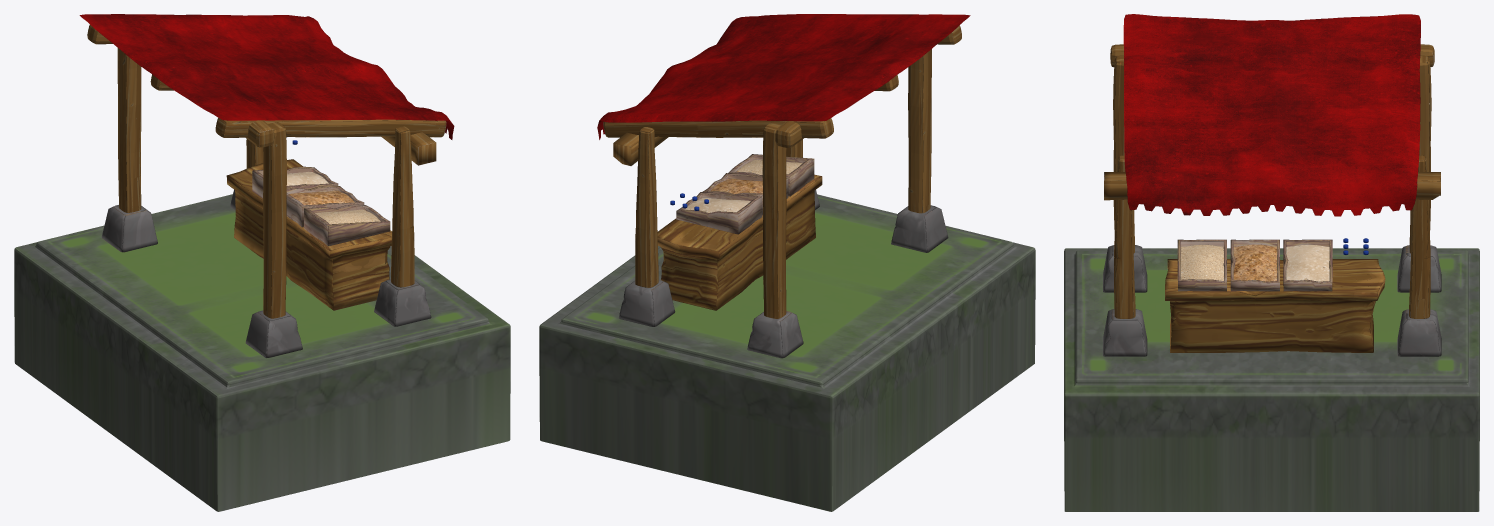
Rendered from Pasar.fbx.
3 renders of one model, left to right at view 1: azimuth 30°, elevation 25°; view 2: azimuth 150°, elevation 25°; view 3: azimuth 270°, elevation 25°, orthographic. The views are drawn at different scales.
Parts seen in each view (by area): view 1: Plane.002, Cube.002; view 2: Plane.002, Cube.002; view 3: Cube.002, Plane.002.
Boxes of the visible parts, x1=… form: Plane.002: x1=14, y1=194, x2=510, y2=511; Cube.002: x1=79, y1=14, x2=454, y2=357; Plane.002: x1=539, y1=194, x2=1035, y2=511; Cube.002: x1=597, y1=14, x2=970, y2=358; Cube.002: x1=1103, y1=14, x2=1441, y2=356; Plane.002: x1=1064, y1=248, x2=1479, y2=511.
Size of the model in its own units: 274 by 329 by 323.
